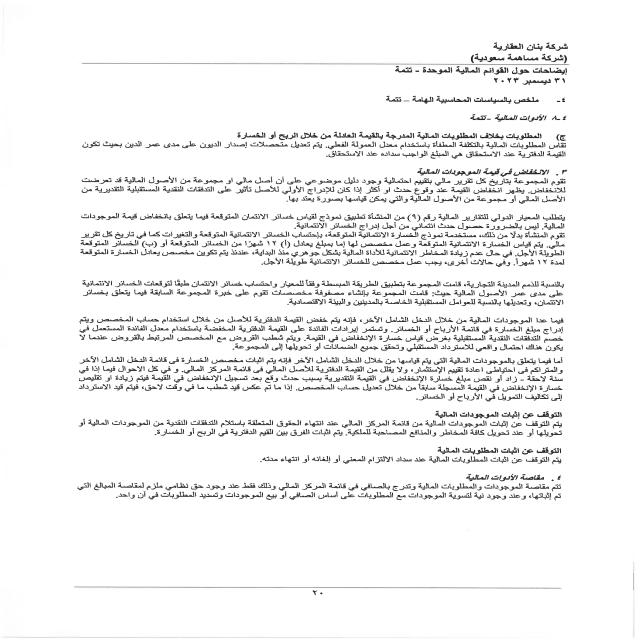notes: (386, 63, 571, 75)
text: (42, 90, 577, 515)
